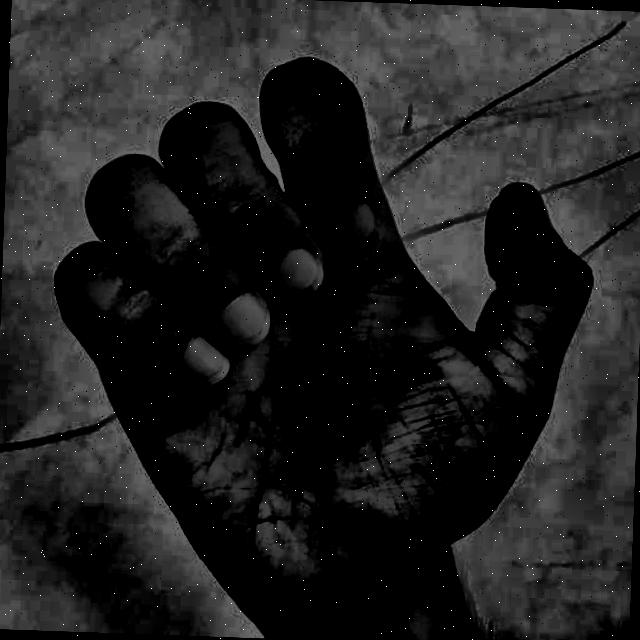Dho: (23, 31, 612, 630)
